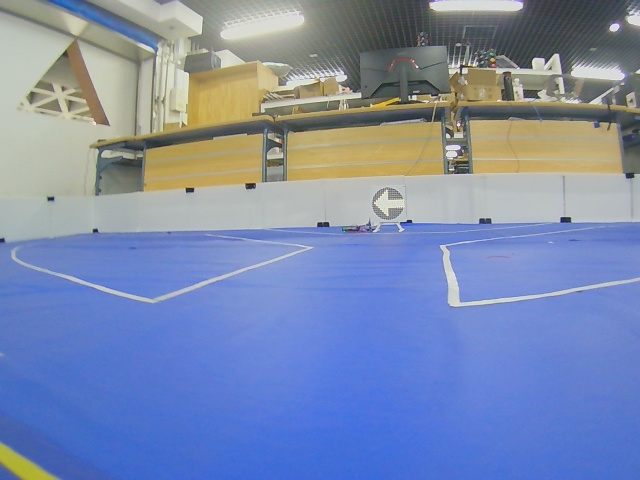left_yellow: (372, 187, 405, 220)
